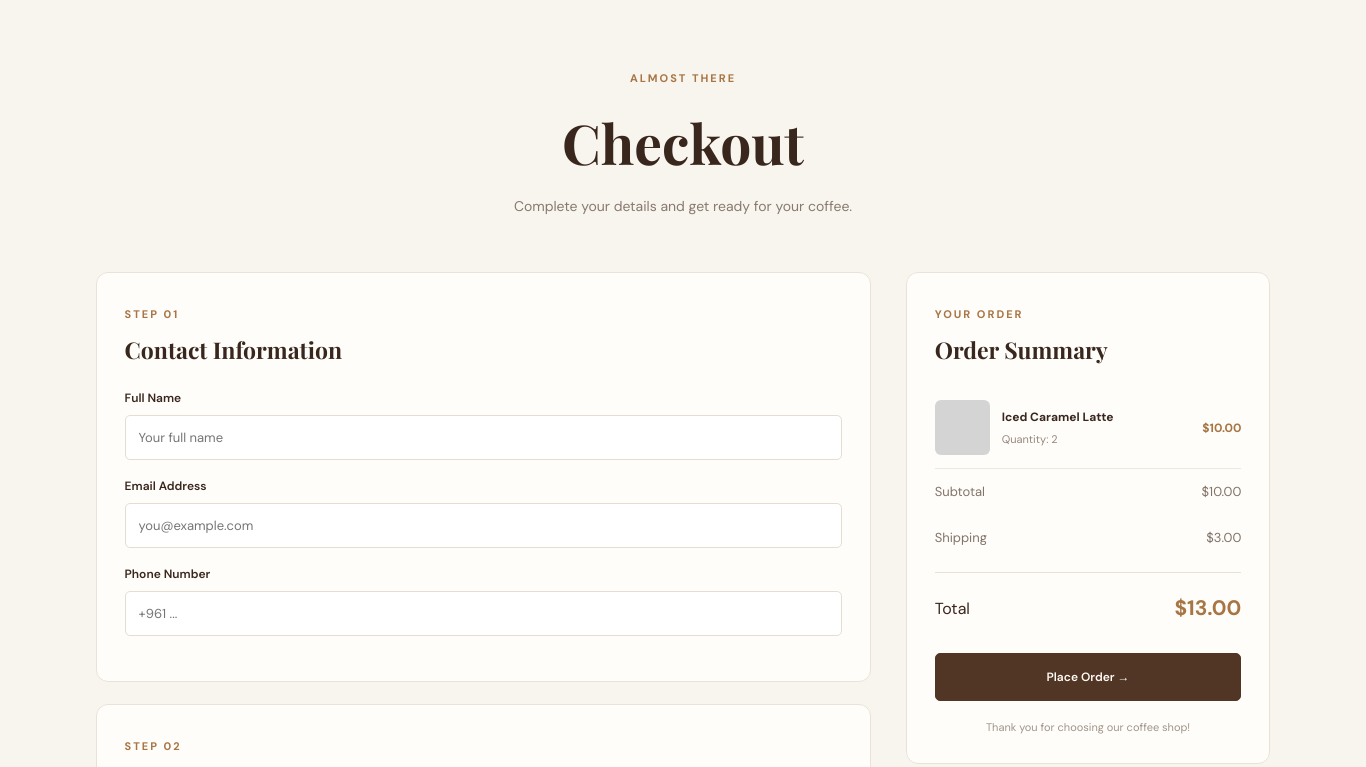
Test: Checkout validation › shows the error only under the invalid field
The width and height of the screenshot is (1366, 767).
Step 1. Type "Sara Khoury" into the field labelled "Full Name" → (483, 438), box x1=125 y1=415 x2=842 y2=460
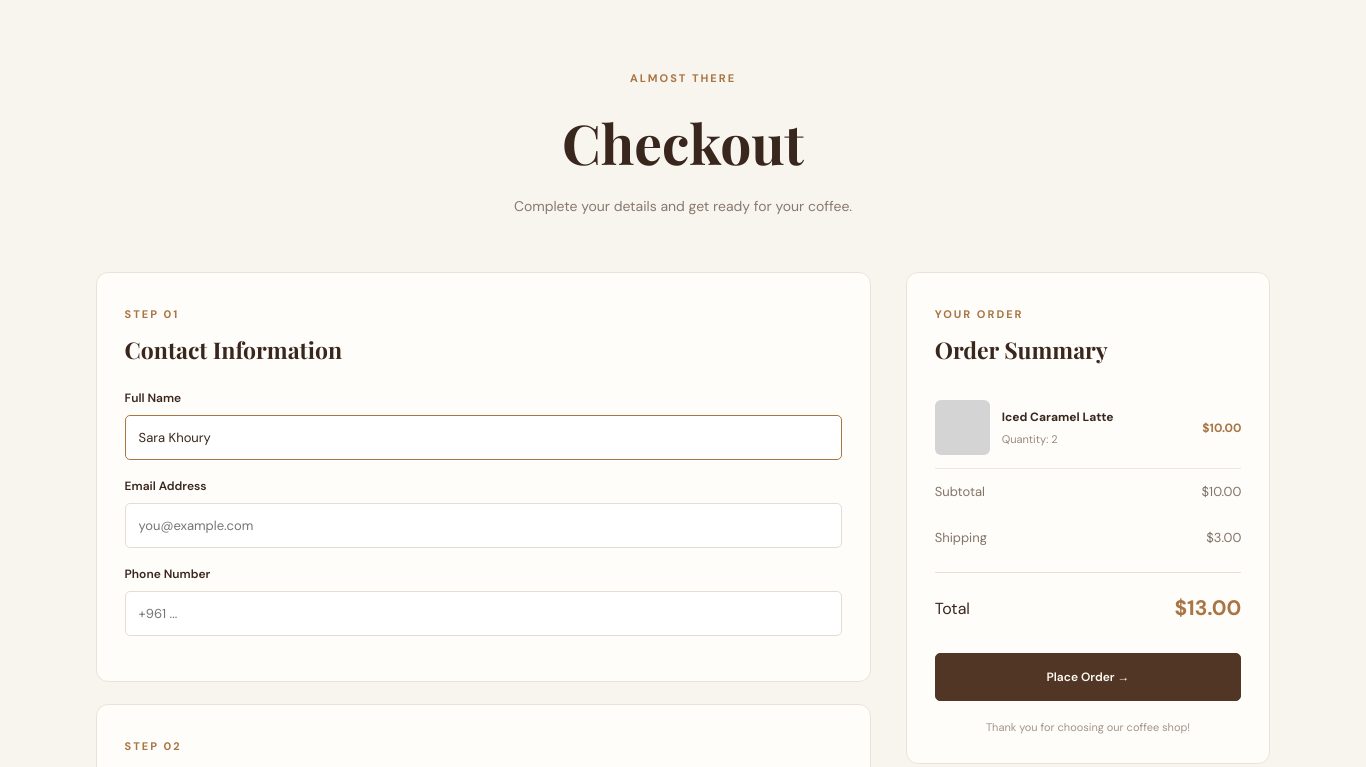
Step 2. Type "not-an-email" into the field labelled "Email Address" → (483, 526), box x1=125 y1=503 x2=842 y2=548
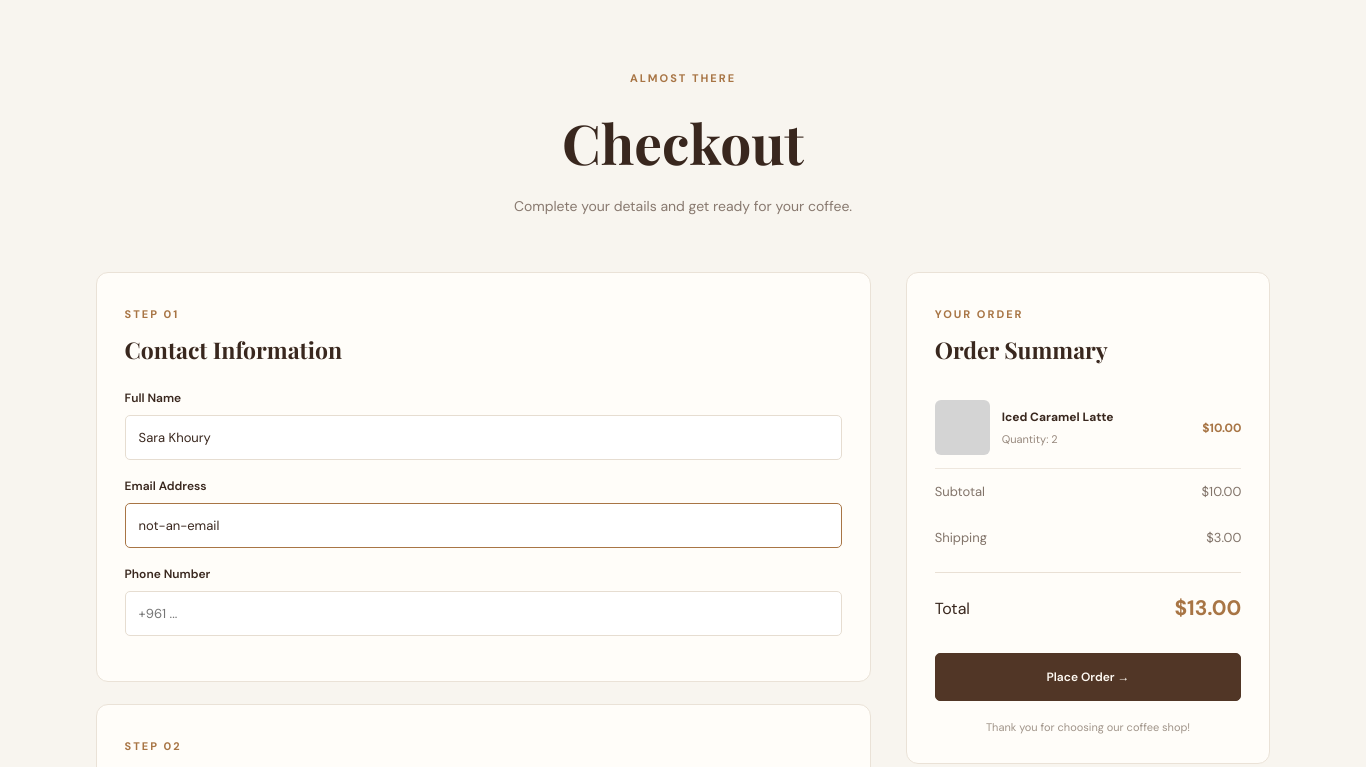
Step 3. Type "+961 70 123 456" into the field labelled "Phone Number" → (483, 614), box x1=125 y1=591 x2=842 y2=636
(page scrolled)
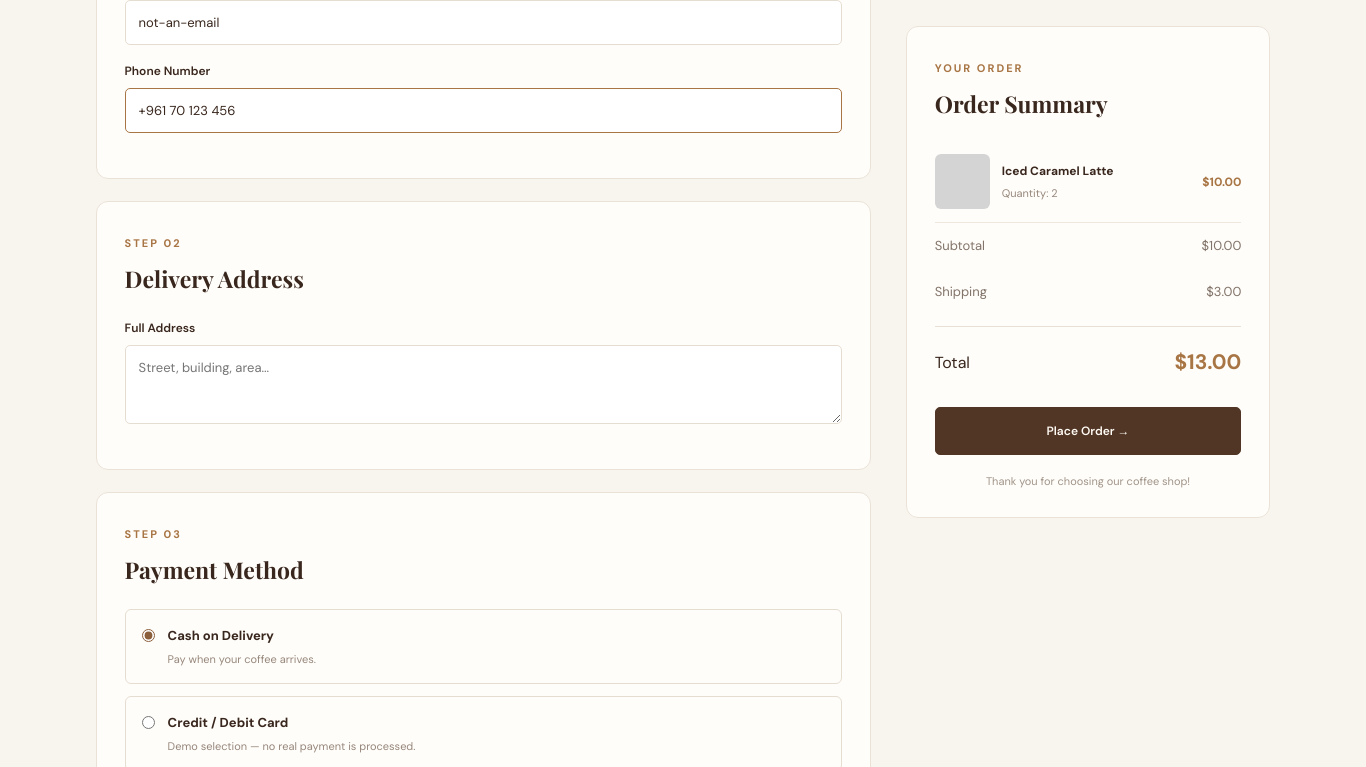
Step 4. Type "Main street, building 4, Akkar" into the text box labelled "Full Address" → (483, 384), box x1=125 y1=344 x2=842 y2=424
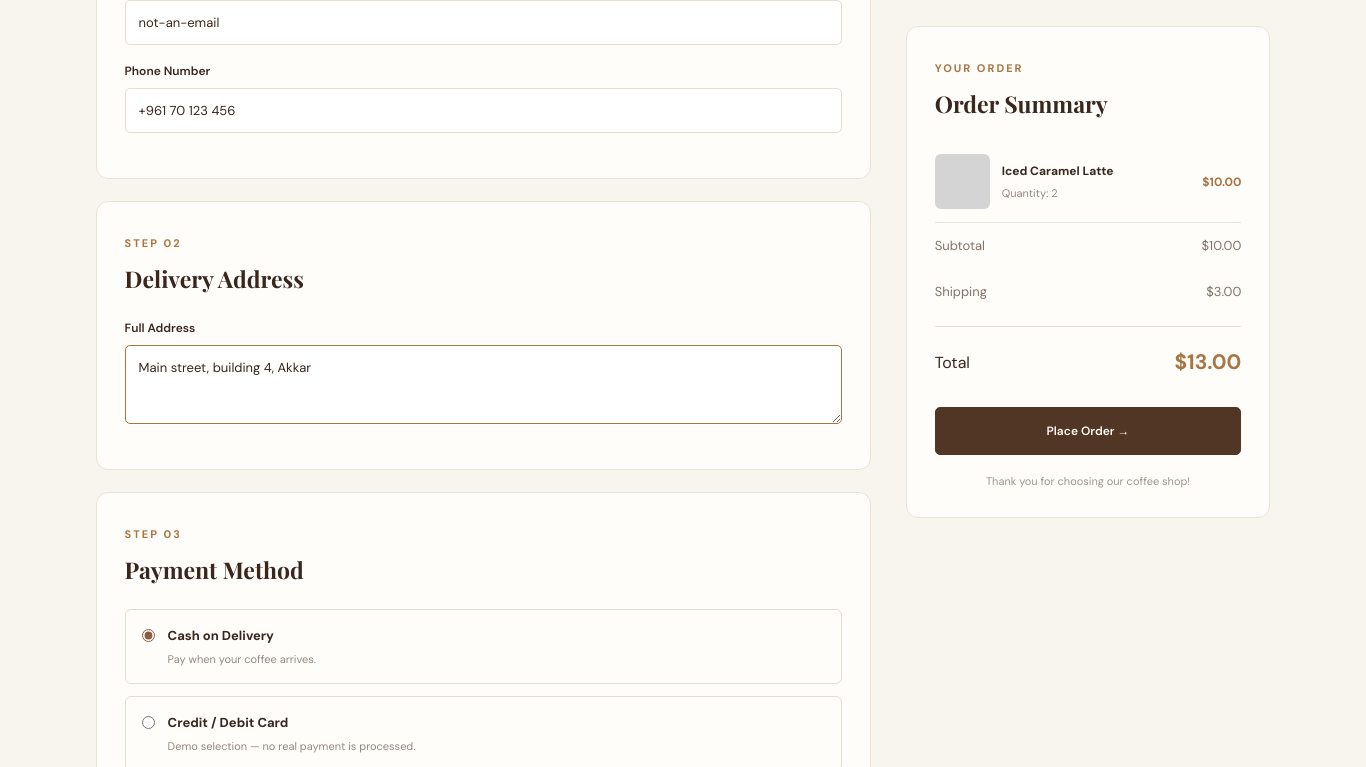
Step 5. Click the button "Place Order →" → (1088, 430), box x1=935 y1=406 x2=1241 y2=454
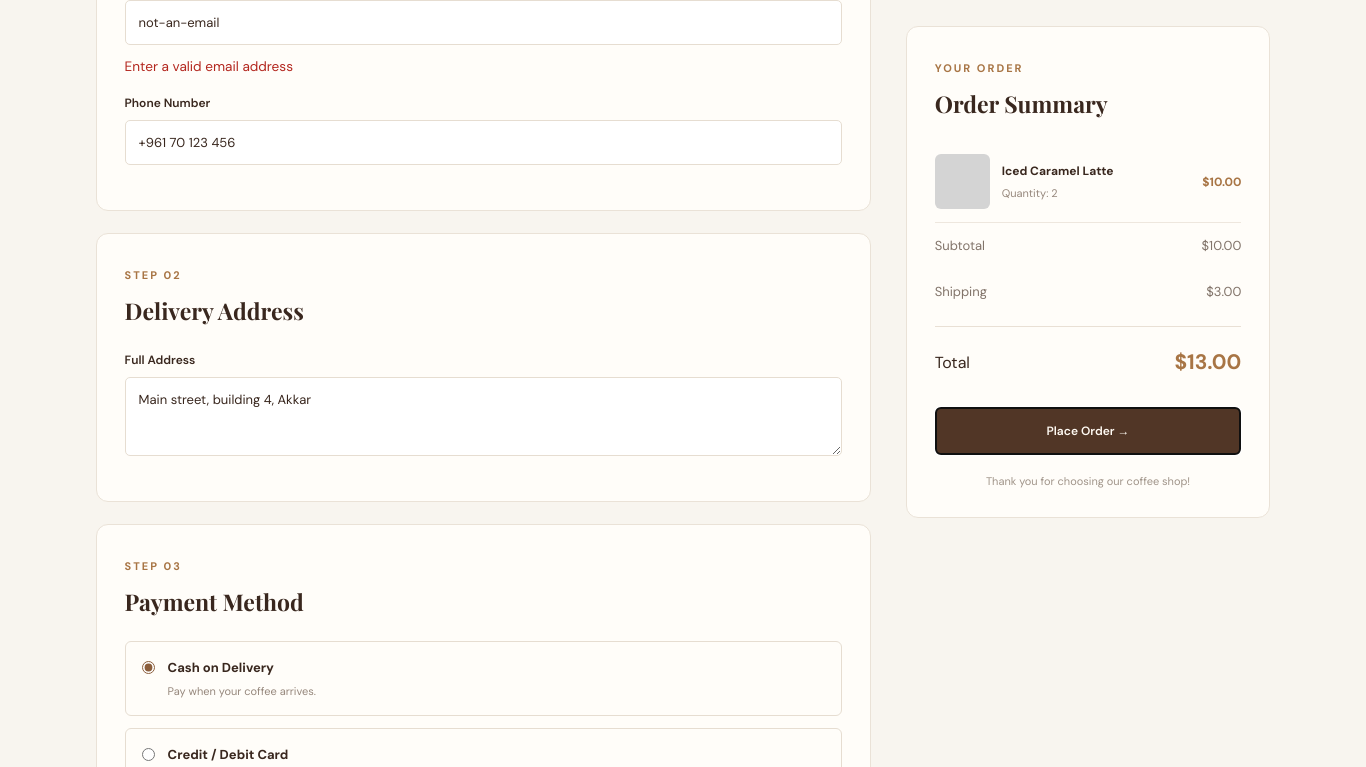
Expected: the text "Enter a valid email address" is shown, x1=125 y1=58 x2=293 y2=75
